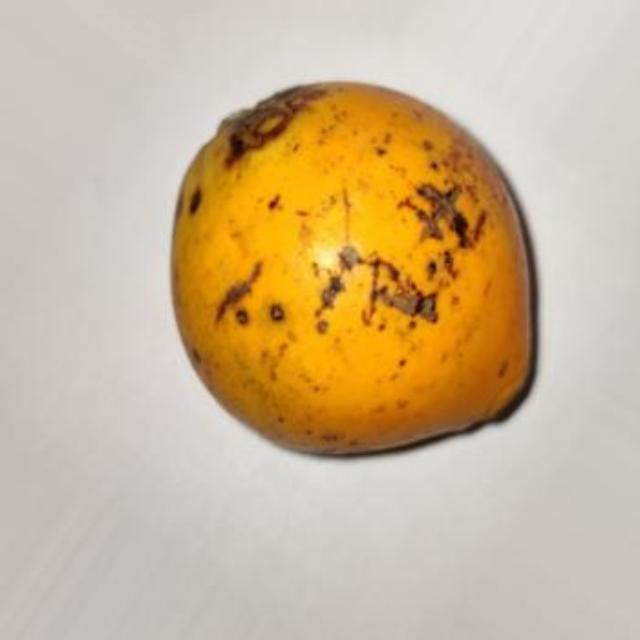good: (168, 80, 539, 459)
